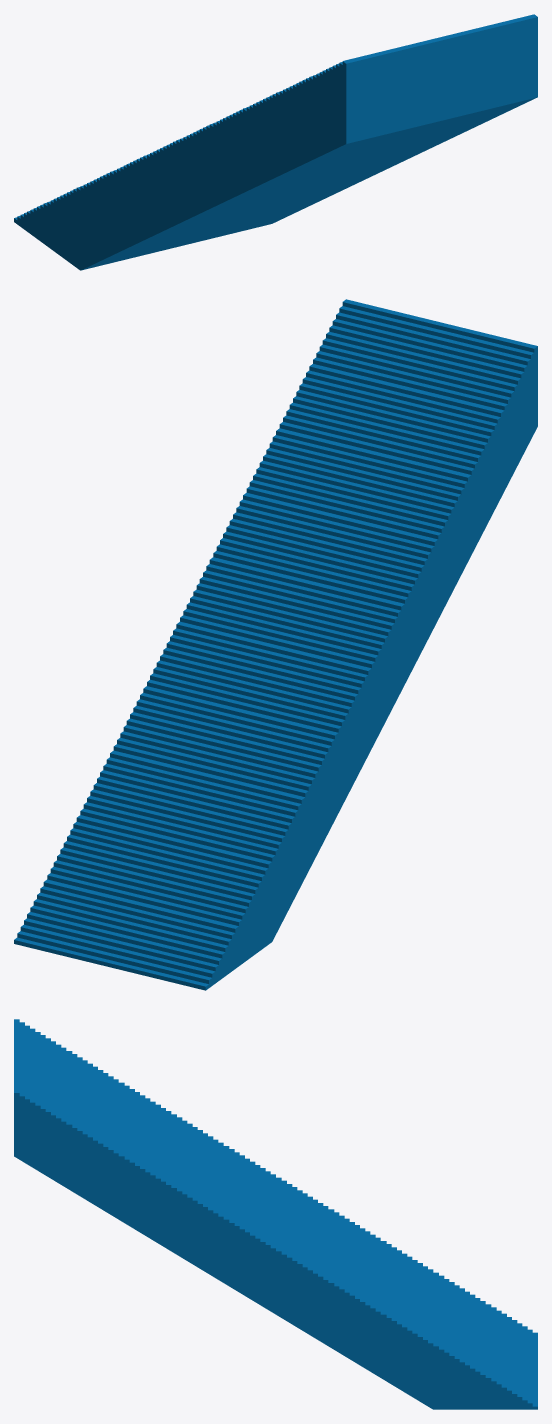
Rendered from Stairs_30x10.fbx.
The picture shows the model from 3 angles, top to bottom: view 1: azimuth 30°, elevation 25°; view 2: azimuth 150°, elevation 25°; view 3: azimuth 270°, elevation 25°; orthographic projection. The views are drawn at different scales.
Parts seen in each view (by area): view 1: Stairs_30x10; view 2: Stairs_30x10; view 3: Stairs_30x10.
Boxes of the visible parts, <box> form: Stairs_30x10: <box>14,14,537,270</box>; Stairs_30x10: <box>14,299,537,990</box>; Stairs_30x10: <box>14,1019,537,1409</box>.
Bounding box in the file's own units: 1000 × 2000 × 3000.
